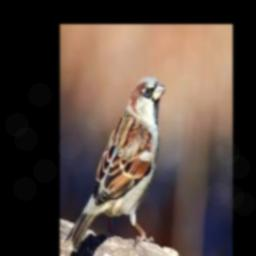Sparrow: (71, 75, 164, 252)
